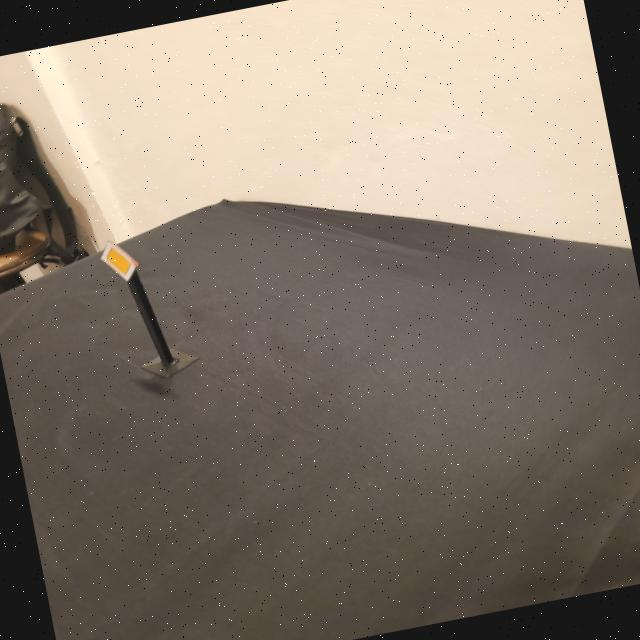priority: (96, 235, 142, 288)
